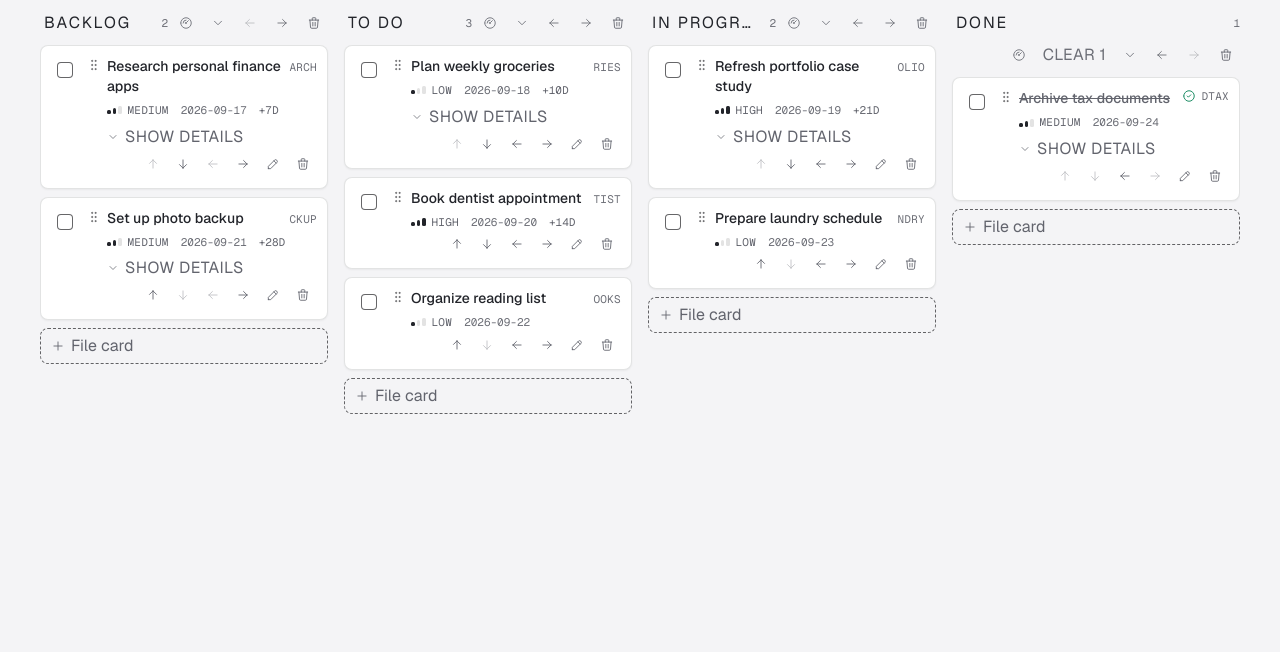
Test: KanbanBoard card editing › offers an edit and a file form under different names, so they cannot be confused
Click the button "File card" below "2026-09-22" at point(406, 395), box [344,378,632,414]
(page scrolled)
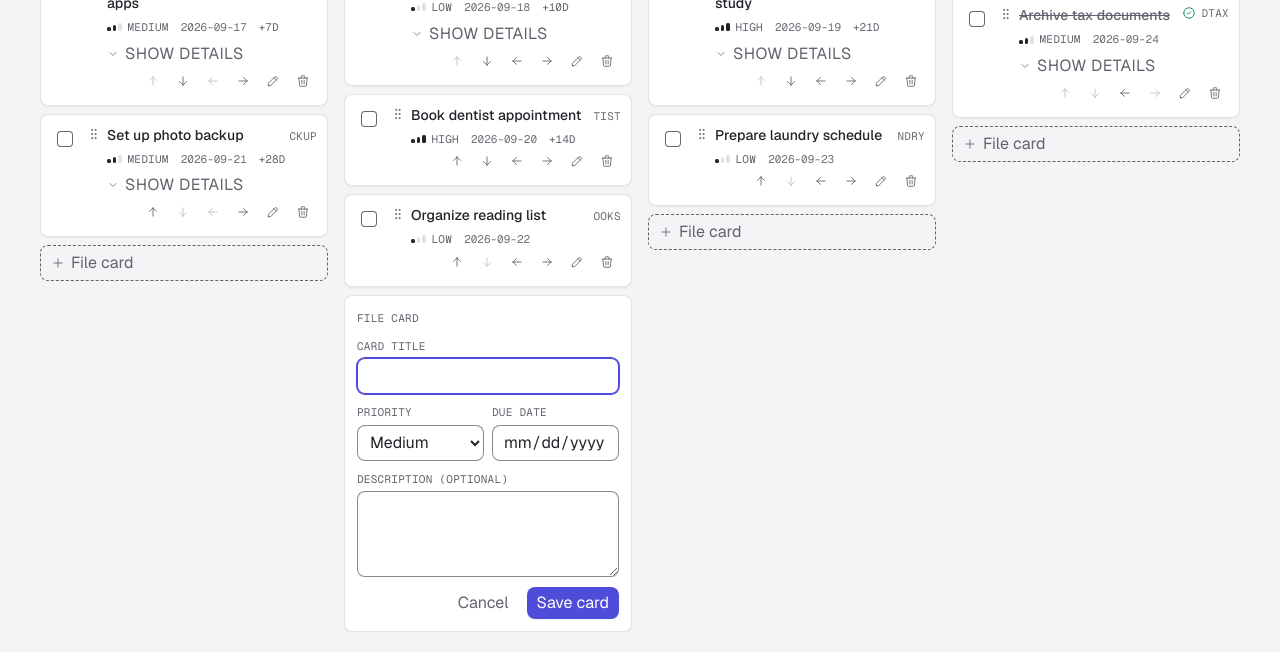
Result: the form "File card" is shown at [344,294,632,632]
